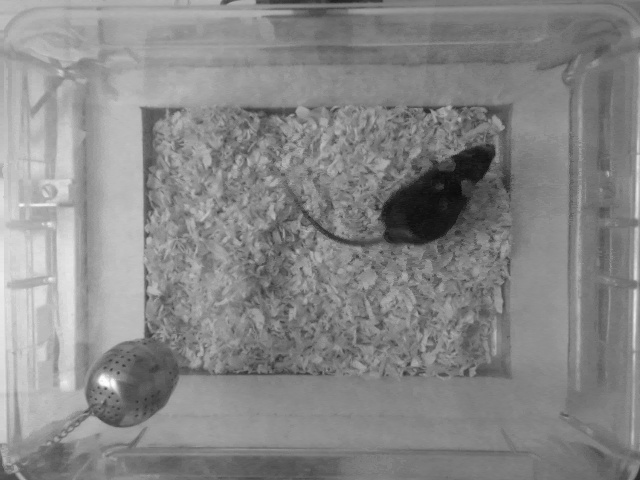mice: (280, 140, 497, 246)
